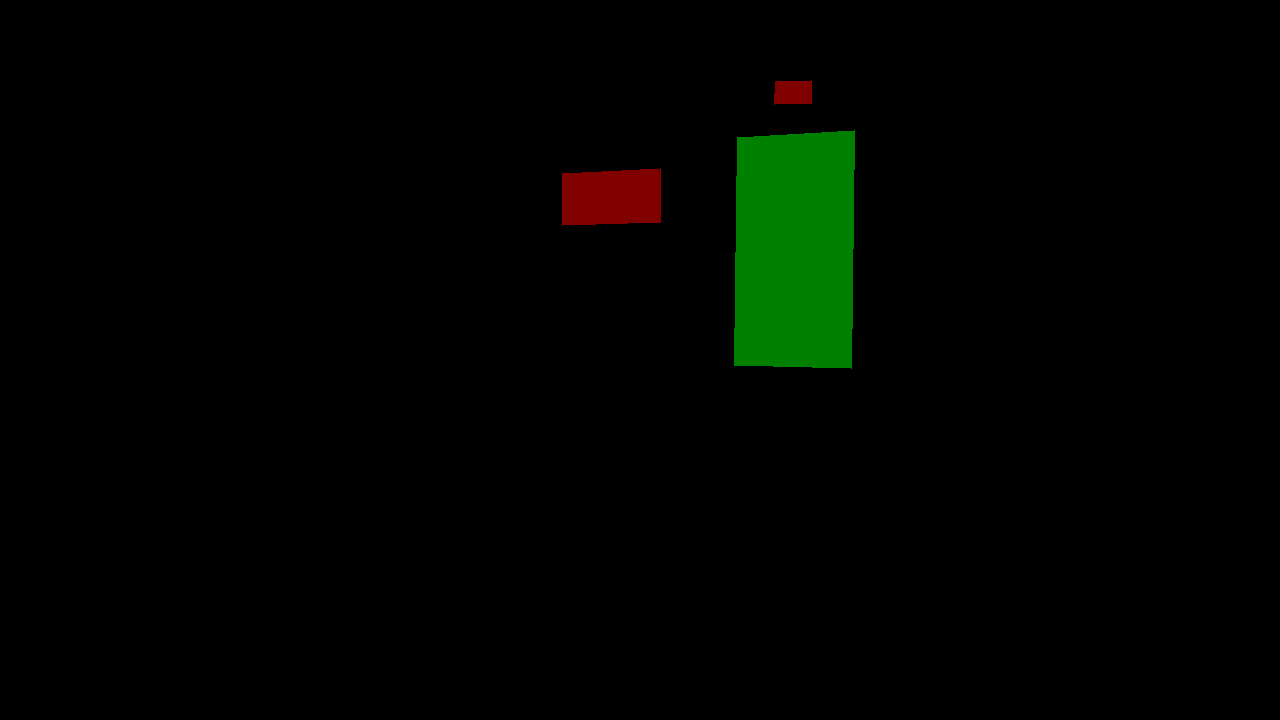door: (734, 130, 854, 368)
sign: (562, 168, 660, 225), (774, 80, 811, 104), (781, 190, 808, 218)
